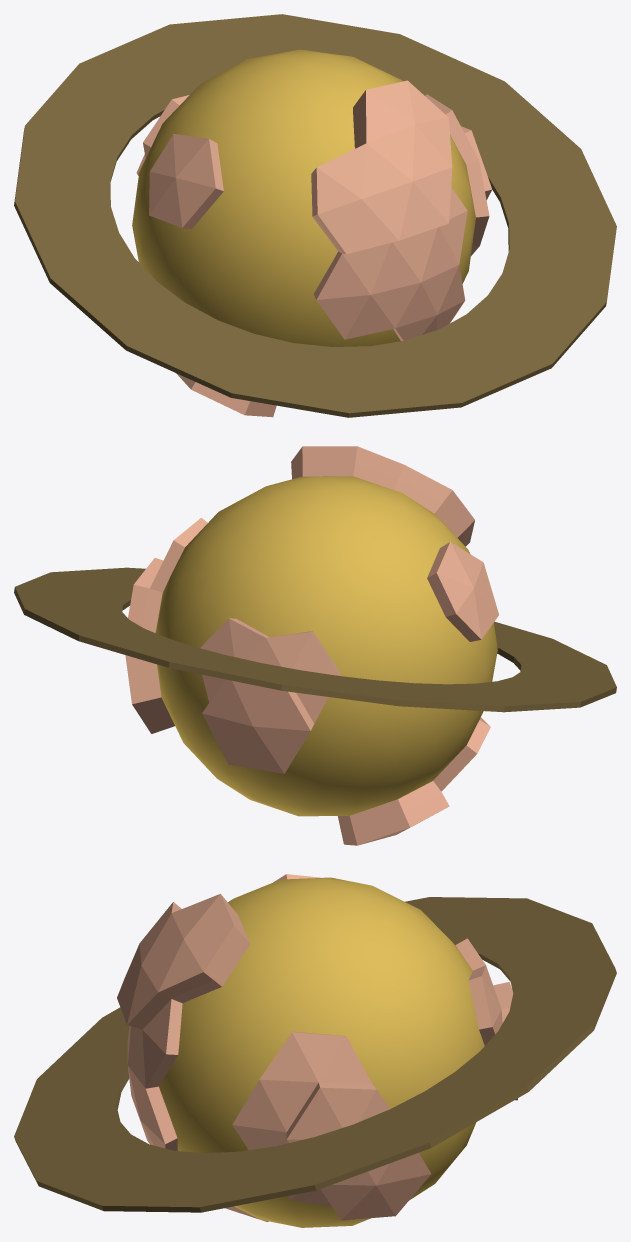
Rendered from hanh tinh 2.fbx.
3 renders of one model, top to bottom at view 1: azimuth 30°, elevation 25°; view 2: azimuth 150°, elevation 25°; view 3: azimuth 270°, elevation 25°, orthographic. The views are drawn at different scales.
Parts seen in each view (by area): view 1: Circle, Icosphere.001, Icosphere; view 2: Icosphere.001, Icosphere, Circle; view 3: Circle, Icosphere.001, Icosphere.
Boxes of the visible parts, box(x1,y1,x2,y2) form: Circle: box(14, 14, 616, 417); Icosphere.001: box(132, 49, 475, 346); Icosphere: box(136, 80, 492, 417); Icosphere.001: box(155, 476, 497, 816); Icosphere: box(125, 446, 498, 845); Circle: box(14, 567, 616, 712); Circle: box(14, 897, 616, 1212); Icosphere.001: box(159, 877, 484, 1227); Icosphere: box(117, 874, 517, 1221).
Size of the model in its own units: 379 by 232 by 363.
